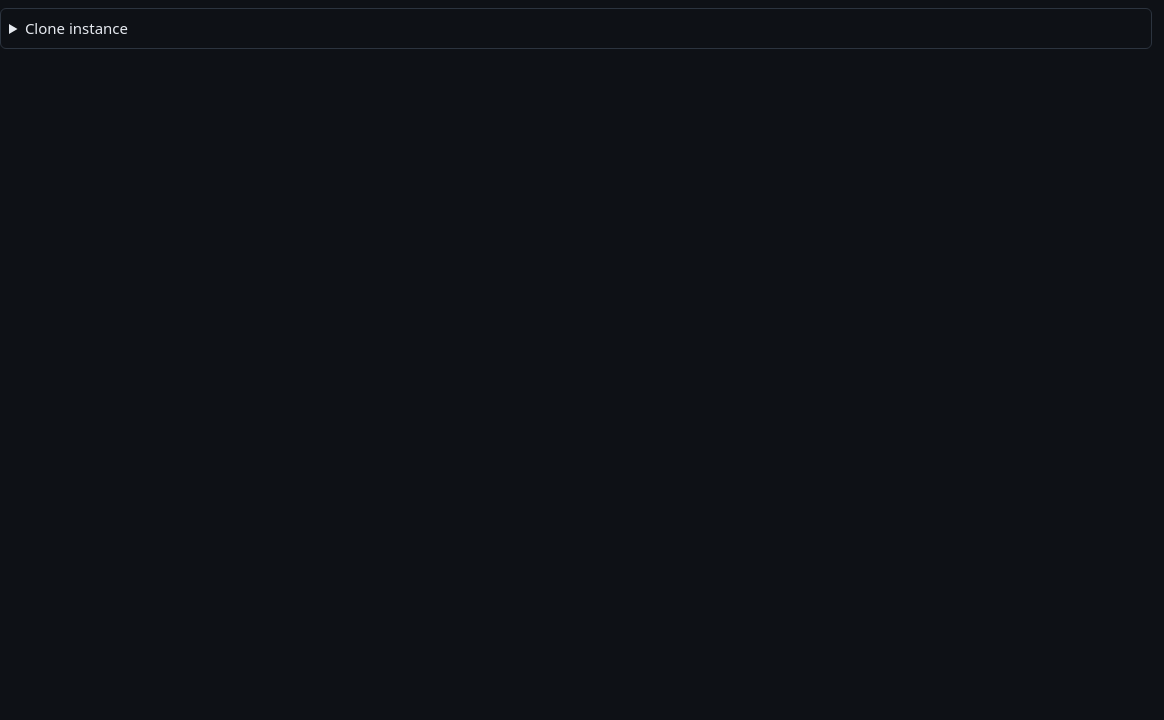
Test: creates, checks and launches a session-scoped clone with reviewed settings
The image size is (1164, 720).
Click the heading "Clone instance". click: (76, 28)
box: [25, 18, 128, 38]
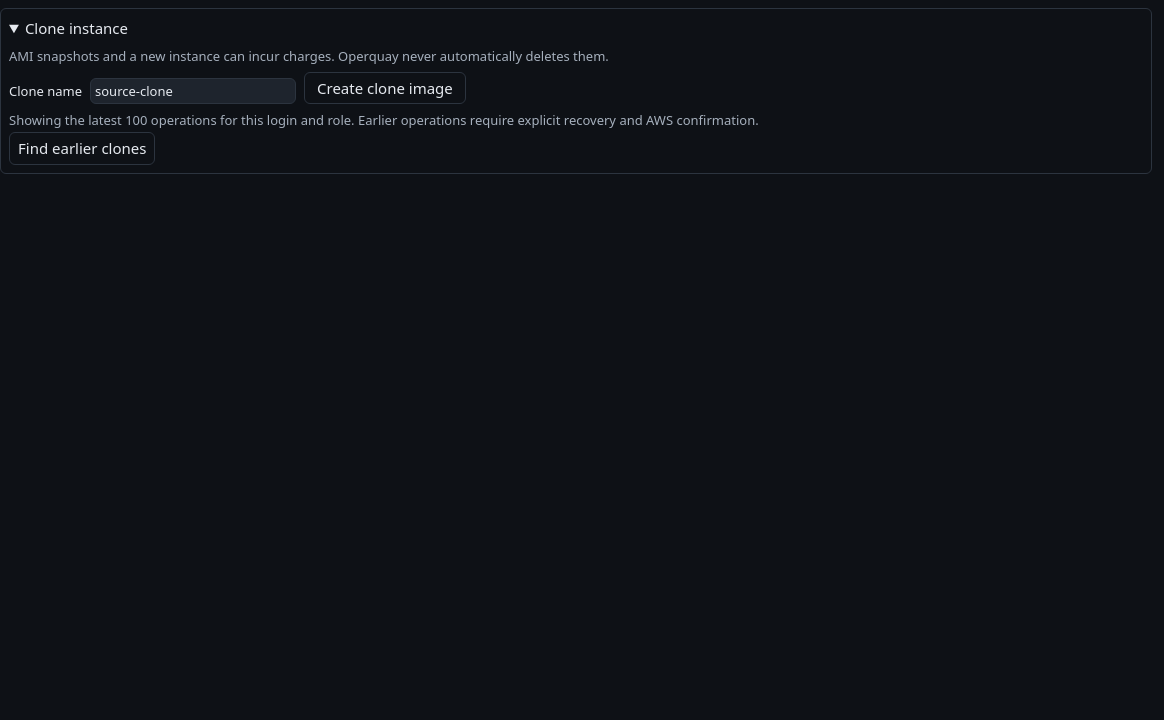
Replace the text in the field named "Clone name for i-source" with "copy". click: (193, 91)
box: [90, 78, 296, 104]
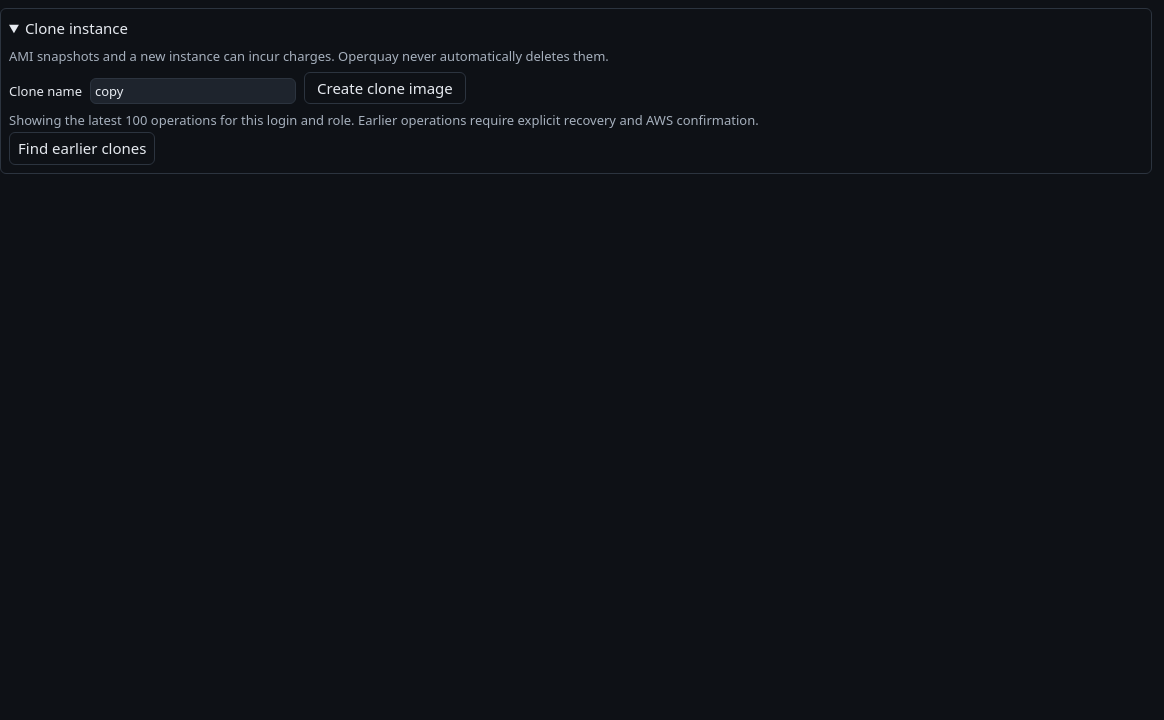
Click the button with aria-label "Create clone image for i-source". click: (385, 88)
box: [304, 72, 466, 104]
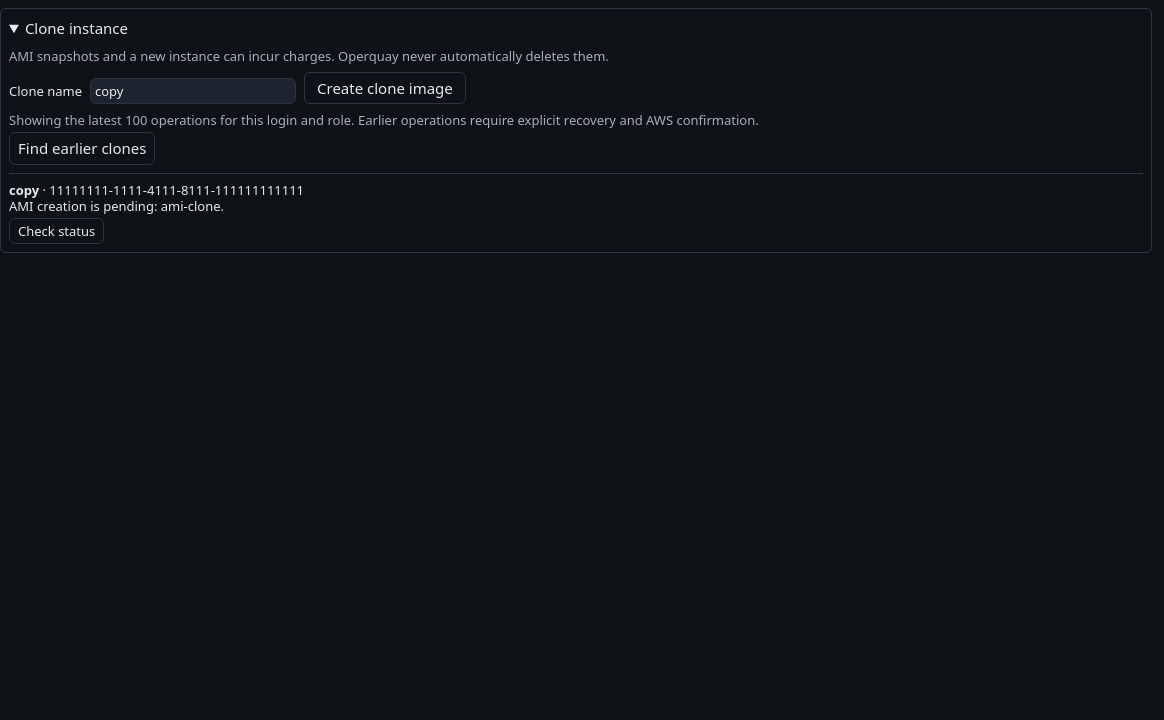
expect the text "AMI creation is pending: ami-clone." is shown: met, box [9, 196, 224, 214]
Click the button "Check status". click: (57, 230)
box: [9, 218, 104, 244]
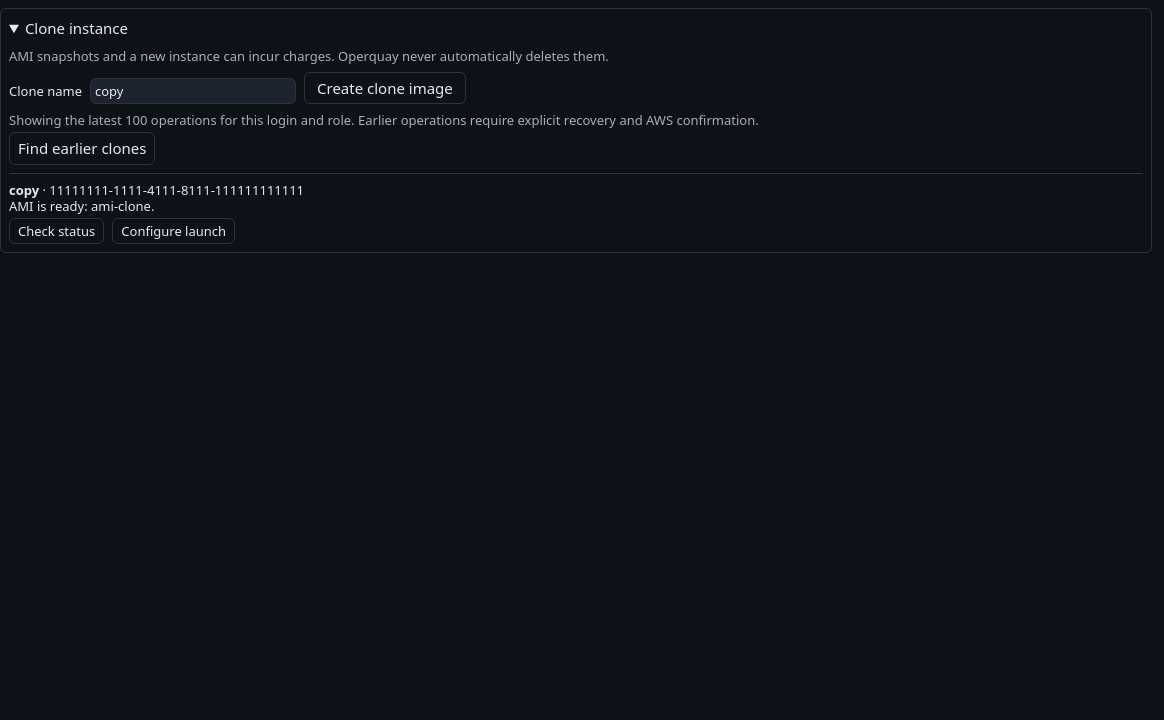
expect the text "AMI is ready: ami-clone." is shown: met, box [9, 196, 154, 214]
Click the button "Configure launch". click: (174, 230)
box: [112, 218, 235, 244]
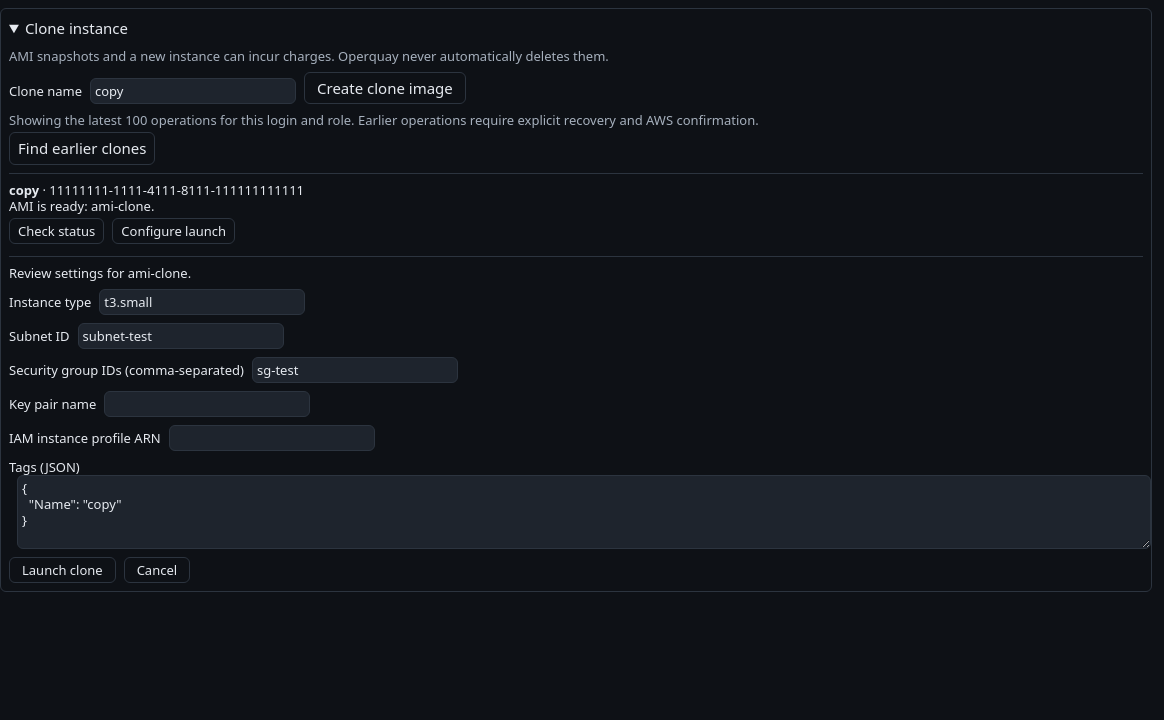
expect the field named "Clone instance type" holds "t3.small": met, box [99, 288, 305, 314]
Click the button "Launch clone". click: (62, 570)
box: [9, 556, 116, 582]
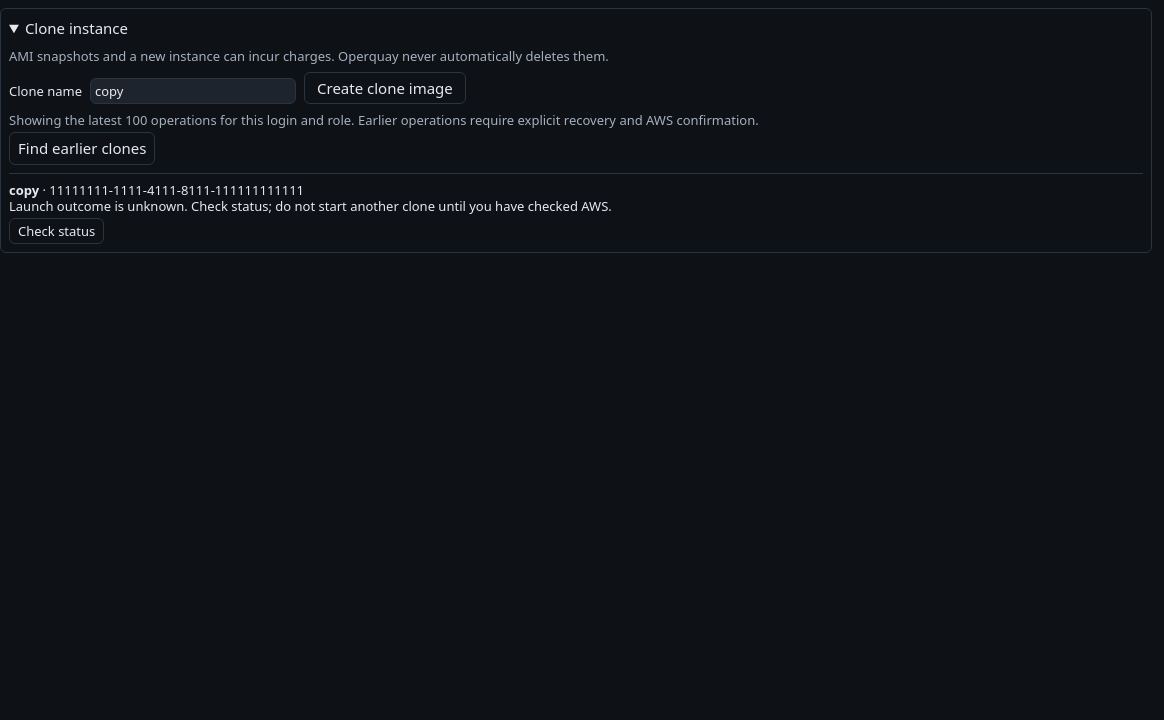
expect the text "Launch outcome is unknown" is shown: met, box [9, 196, 612, 214]
